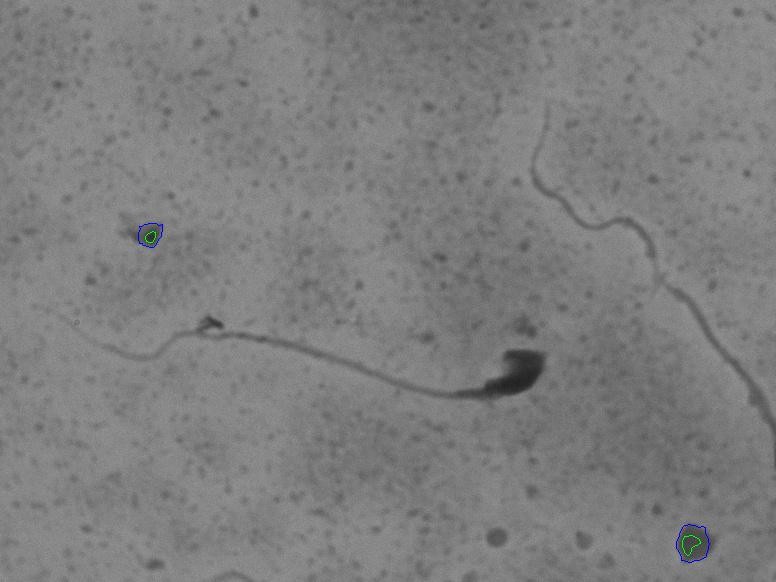Abnormal: (35, 300, 558, 441)
